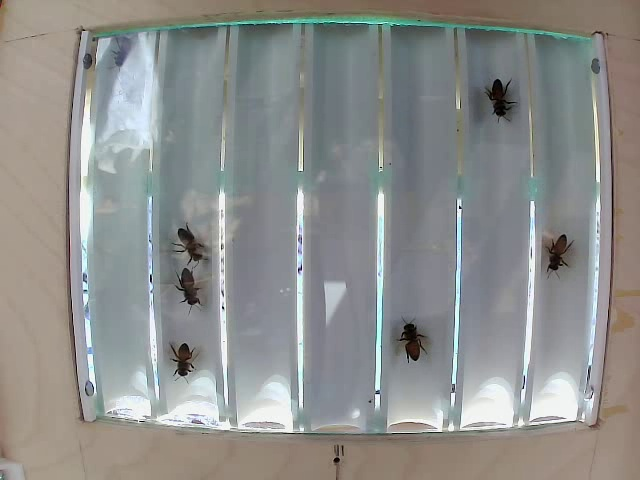bee: (156, 330, 208, 375), (394, 309, 433, 363), (177, 259, 211, 313), (169, 229, 208, 274), (543, 231, 584, 264), (476, 66, 503, 115)
